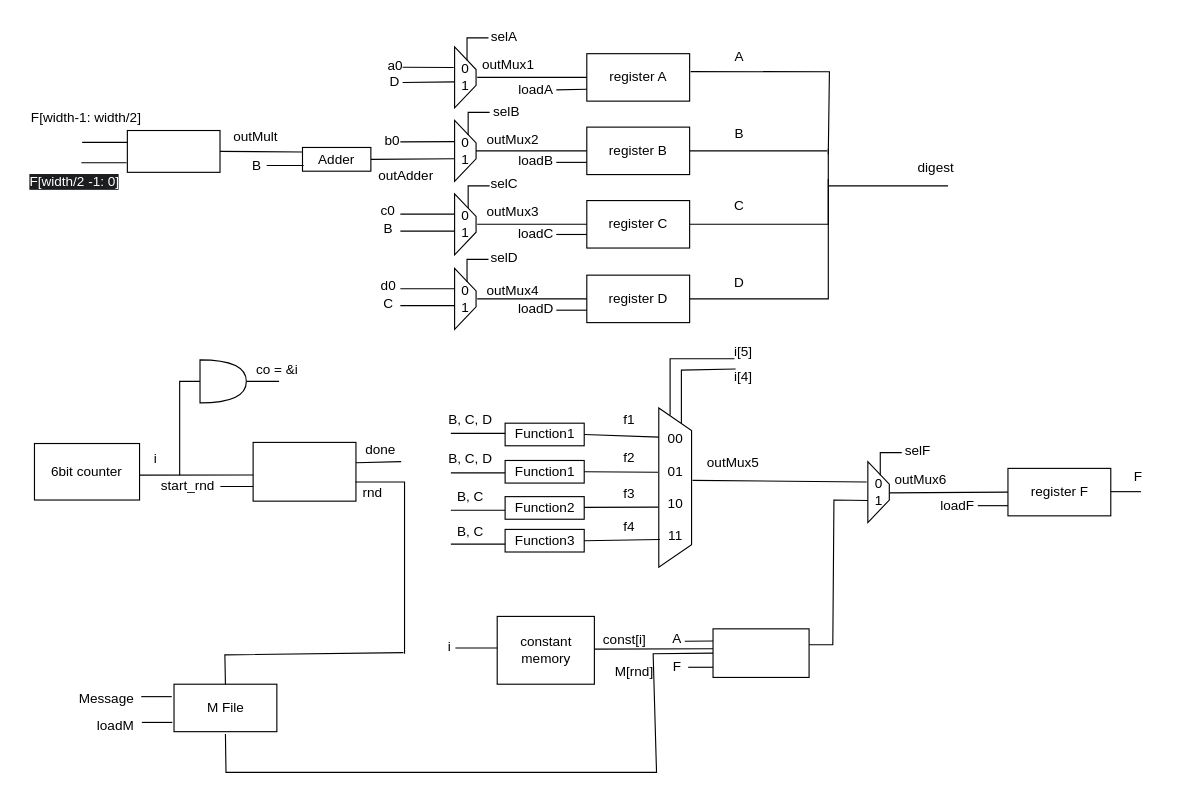
Image size: 1184x793. Some labels were removed from this diagram. The shapes that lost their labels are listed below. From the top down, each one's centre as x and y in pixels, then its label:
At (x=173, y=150): "Multiplier".
At (x=304, y=471): "rnd_generator".
At (x=760, y=652): "Adder 32Bit fourOperand".
